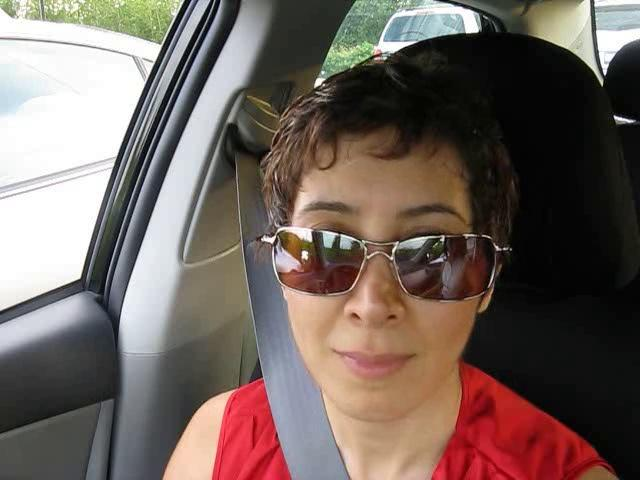no_yawn: (312, 327, 435, 390)
